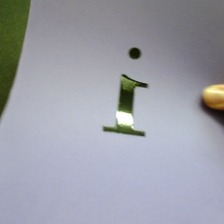violet1: (100, 42, 155, 144)
